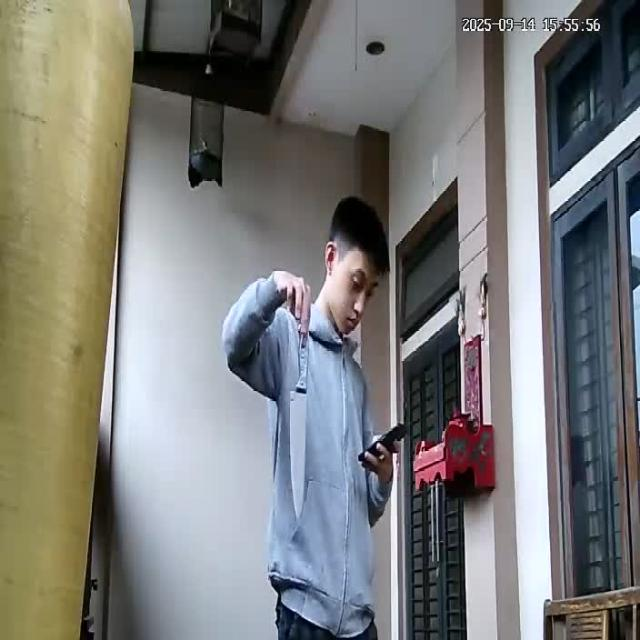senjata_tajam: (289, 339, 311, 522)
